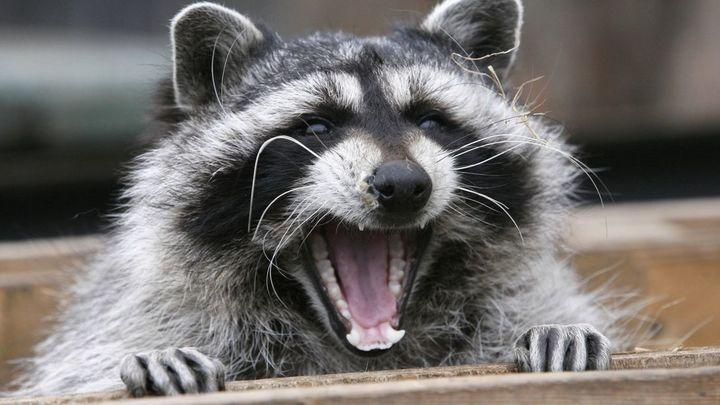raccoon: (36, 0, 610, 405)
